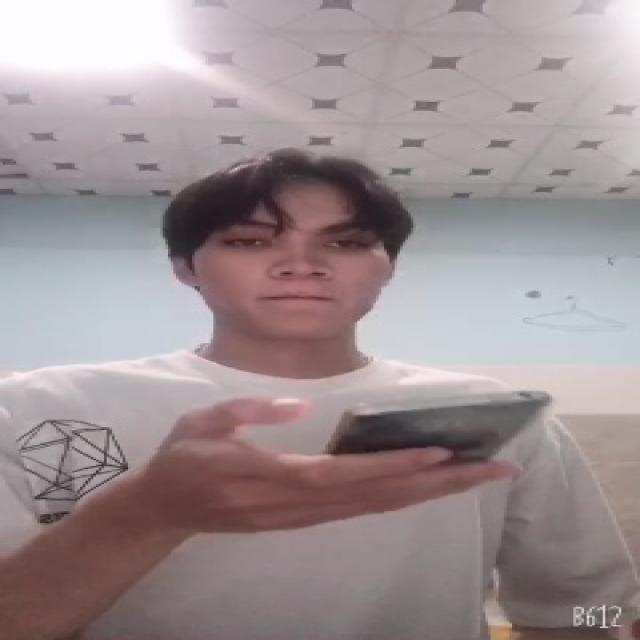Phone: (321, 388, 551, 462)
